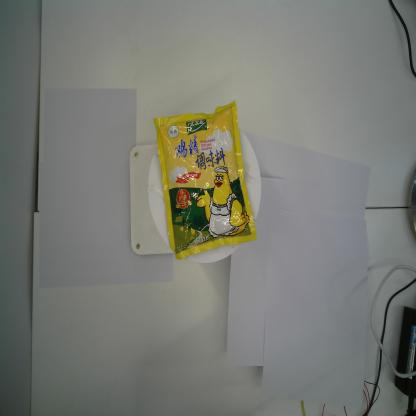Seasoner: (152, 99, 258, 260)
